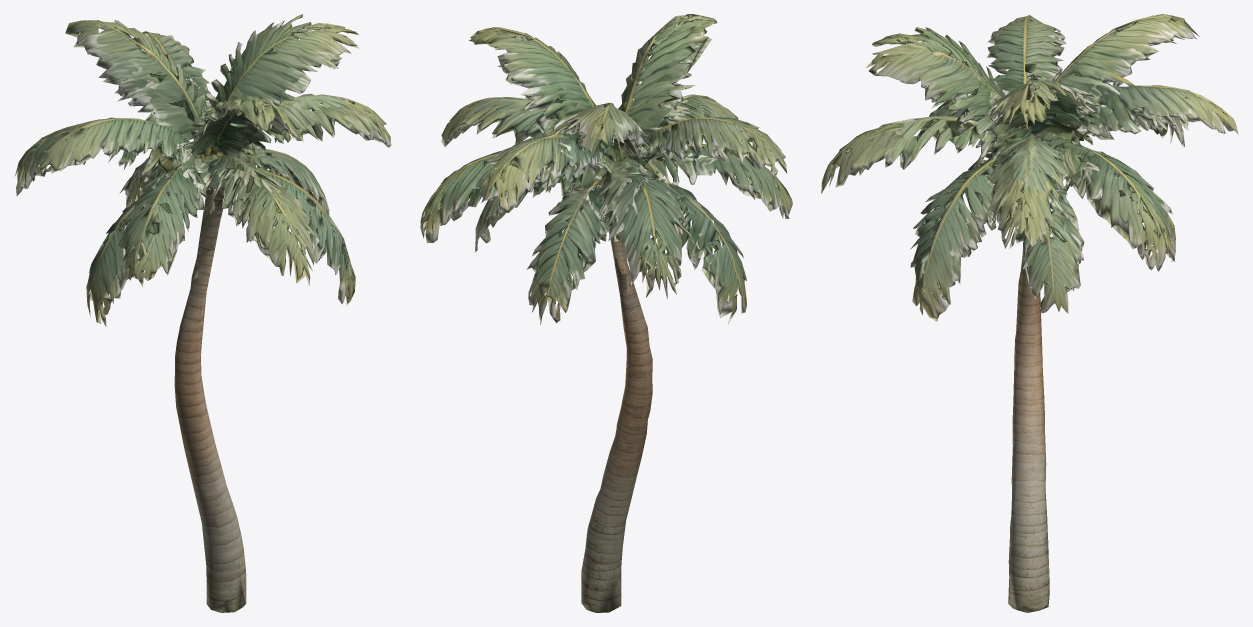
Rendered from VAR_Pool_WaterPalm_A.fbx.
3 views of the same model, side by side, from view 1: azimuth 30°, elevation 25°; view 2: azimuth 150°, elevation 25°; view 3: azimuth 270°, elevation 25° (orthographic).
Parts seen in each view (by area): view 1: texture_mapping; view 2: texture_mapping; view 3: texture_mapping.
Boxes of the visible parts, x1,y1,x2,y2 form: texture_mapping: (14,14,391,612); texture_mapping: (420,14,792,612); texture_mapping: (821,14,1238,612).
Size of the model in its own units: 0.6503 by 0.6782 by 1.
1 material, 1 textured.
